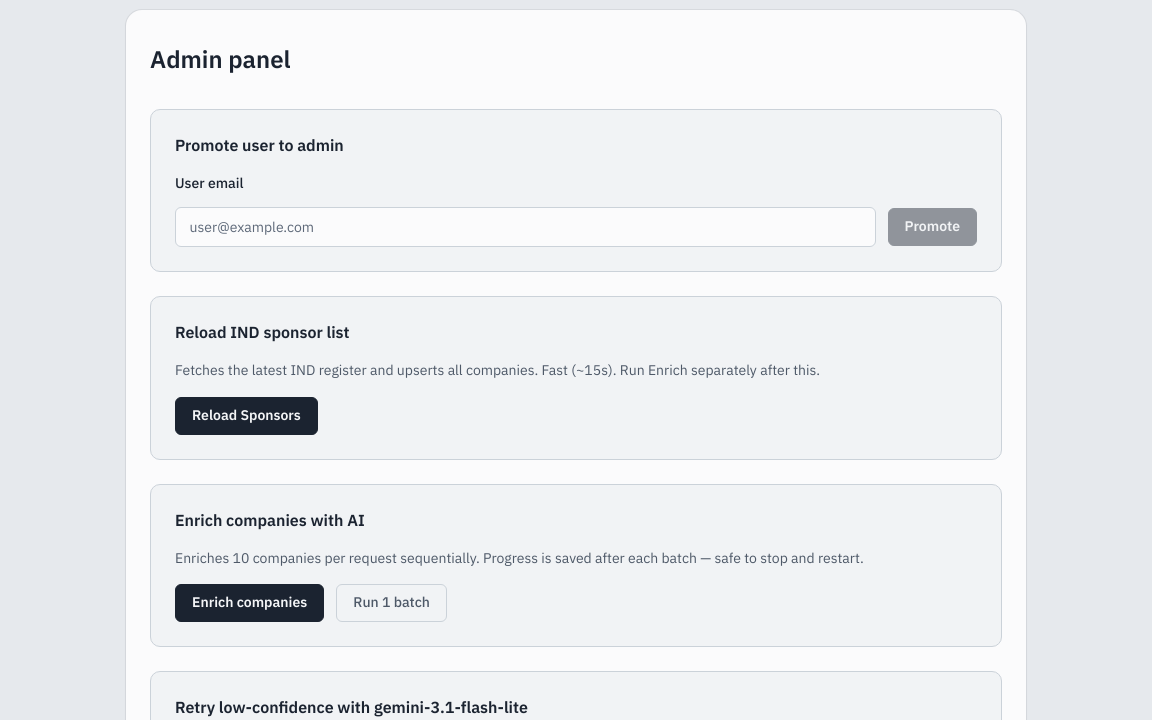
Test: AdminView – enriching companies › stops after the batch in flight when asked to stop
Click the button "Enrich companies".
click(250, 603)  # box [175,584,324,622]
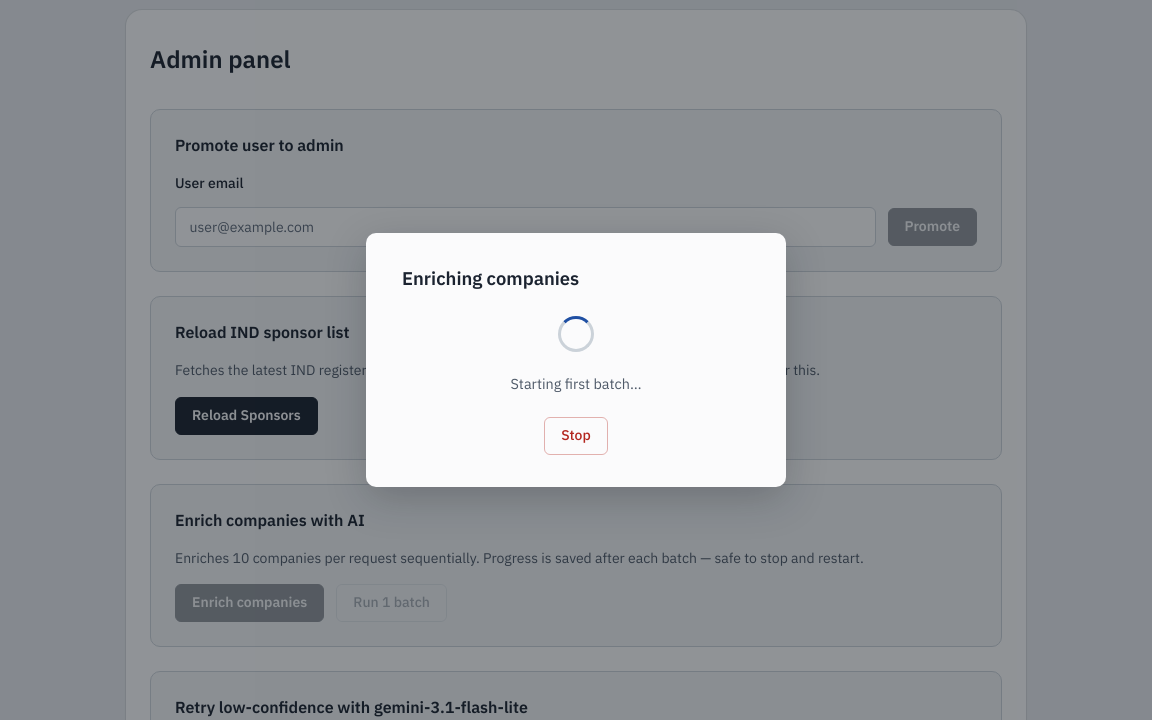
Check: the button with class "btn-danger" is shown
Click the button with class "btn-danger".
click(576, 436)  # box [544,417,608,455]
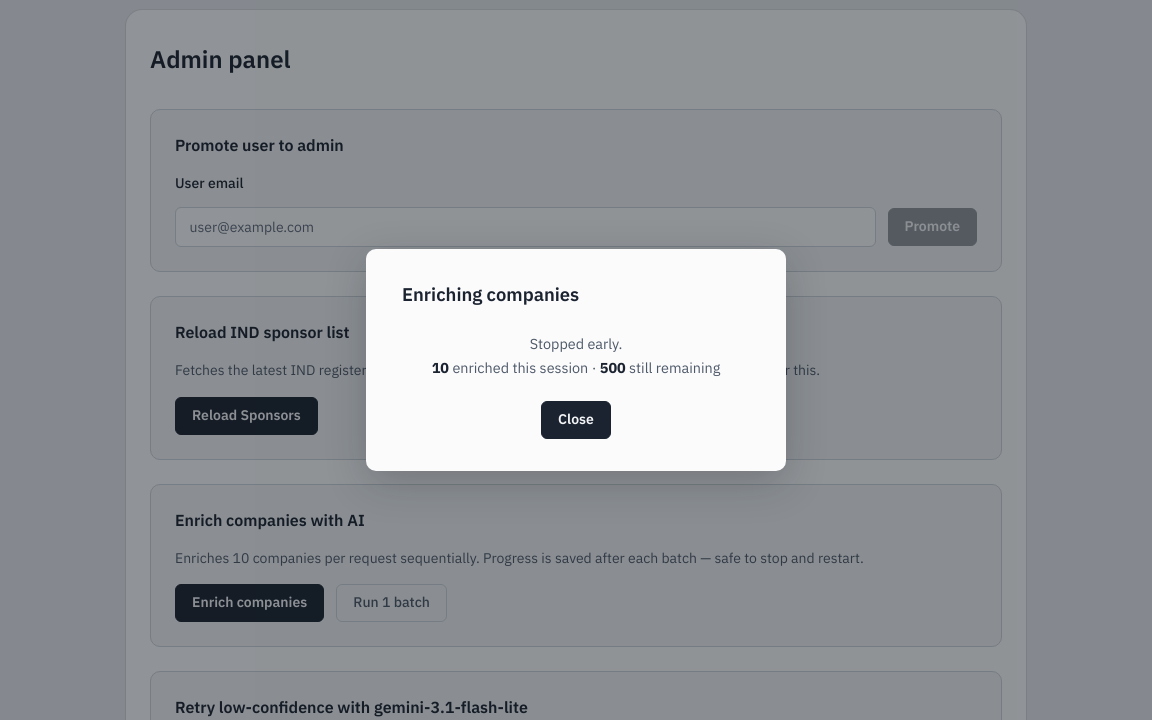
Check: the element with class "enrich-modal" shows "Stopped early.", box [530,334,622,353]
